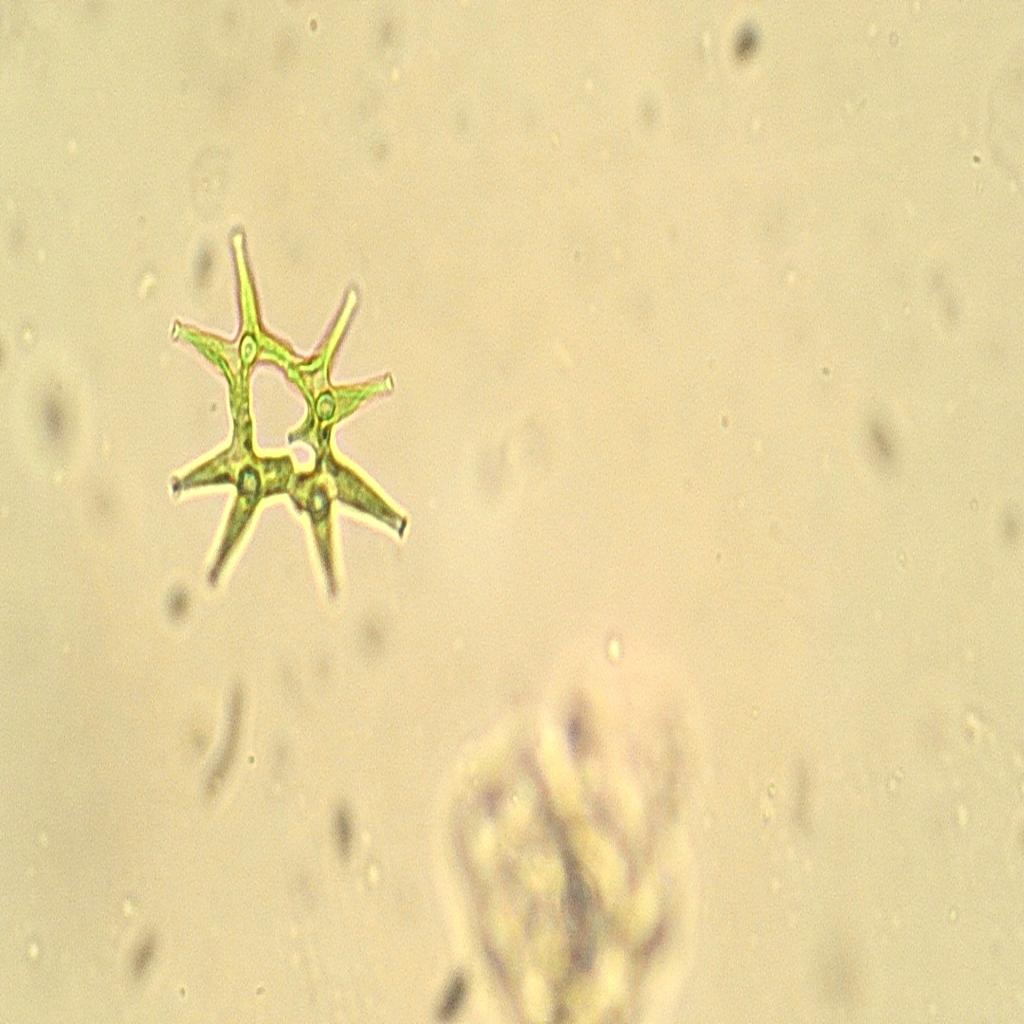Pediastrum_CF: (153, 182, 413, 678)
